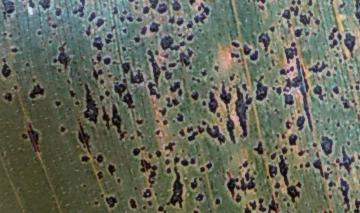tarspot: (292, 57, 313, 132), (233, 84, 248, 138), (83, 84, 98, 125), (171, 165, 183, 208), (147, 48, 160, 85), (339, 145, 355, 174), (27, 120, 40, 153), (78, 121, 91, 153), (339, 177, 350, 213), (206, 125, 226, 144), (279, 154, 289, 187), (58, 42, 70, 69), (225, 171, 236, 199), (160, 35, 180, 50), (111, 104, 121, 133), (219, 80, 231, 104), (344, 34, 356, 57), (287, 184, 300, 203), (147, 82, 162, 98), (283, 47, 297, 64), (256, 82, 268, 101), (101, 105, 110, 130), (226, 118, 235, 143), (28, 84, 44, 98), (307, 62, 329, 72), (123, 91, 135, 109), (321, 136, 333, 154), (130, 69, 144, 84), (208, 92, 218, 113), (240, 176, 255, 190), (259, 33, 270, 51), (114, 83, 127, 98), (74, 1, 85, 18), (313, 159, 323, 177), (268, 195, 278, 213), (177, 52, 190, 65), (3, 1, 15, 14), (139, 159, 151, 172), (105, 196, 118, 208), (268, 163, 278, 178), (193, 13, 206, 24), (284, 94, 294, 108), (299, 14, 310, 26), (148, 172, 156, 188), (283, 78, 292, 92), (3, 63, 11, 78), (187, 132, 199, 142), (297, 116, 305, 131), (254, 141, 263, 154), (200, 2, 209, 15), (259, 198, 267, 212), (158, 3, 168, 14), (149, 22, 160, 32), (169, 82, 180, 92), (39, 1, 51, 10), (107, 164, 116, 176), (355, 1, 360, 22), (245, 92, 253, 105), (95, 153, 105, 163), (328, 28, 337, 39), (95, 18, 104, 28), (93, 42, 103, 51), (172, 1, 181, 11), (282, 9, 291, 19), (225, 104, 231, 119), (290, 6, 299, 16), (313, 85, 322, 95), (244, 44, 252, 55), (250, 50, 258, 61), (289, 134, 297, 145), (354, 199, 360, 213), (158, 108, 167, 117), (165, 142, 174, 151), (142, 189, 151, 198), (122, 62, 130, 72), (140, 25, 148, 35), (149, 1, 159, 9), (129, 198, 137, 208), (92, 67, 98, 80), (165, 96, 172, 107), (4, 93, 13, 101), (88, 12, 96, 21), (191, 91, 199, 100), (176, 113, 184, 122), (191, 178, 197, 190), (165, 70, 172, 80), (249, 200, 256, 210), (103, 57, 111, 65), (176, 17, 184, 25), (330, 40, 338, 48), (195, 193, 203, 201), (120, 131, 127, 140), (191, 76, 200, 83), (169, 15, 175, 25), (28, 1, 35, 9), (112, 7, 119, 15), (143, 6, 150, 14), (161, 52, 169, 59), (200, 69, 208, 76), (136, 128, 142, 137), (81, 156, 90, 162), (132, 149, 141, 155), (276, 86, 282, 95), (286, 19, 292, 28), (87, 24, 91, 37), (187, 48, 194, 55), (197, 125, 204, 132), (280, 68, 287, 75), (296, 30, 303, 37), (342, 102, 349, 109), (2, 12, 8, 20), (60, 125, 66, 133), (155, 150, 161, 158), (179, 129, 185, 137), (181, 160, 189, 166), (232, 41, 240, 47), (258, 4, 266, 10), (286, 121, 292, 129), (333, 86, 339, 94), (270, 152, 276, 160), (245, 205, 251, 213), (97, 171, 103, 179), (231, 53, 240, 58), (236, 194, 241, 203), (324, 171, 329, 180), (55, 101, 62, 107), (70, 90, 76, 97), (127, 16, 134, 22), (135, 16, 142, 22), (155, 129, 161, 136), (187, 34, 194, 40), (173, 98, 179, 105), (187, 126, 193, 133), (258, 75, 264, 82), (241, 83, 247, 90), (298, 150, 305, 156), (242, 160, 248, 167), (296, 182, 302, 189), (173, 157, 179, 164), (329, 181, 336, 187), (52, 58, 58, 64), (187, 21, 193, 27), (162, 119, 168, 125), (168, 63, 177, 67), (201, 120, 207, 126), (230, 74, 236, 80), (270, 26, 276, 32), (314, 19, 320, 25), (282, 148, 288, 154), (206, 163, 212, 169), (245, 172, 249, 181), (56, 9, 61, 16), (22, 133, 27, 140), (91, 58, 96, 65), (189, 1, 196, 6), (154, 49, 159, 56), (160, 66, 167, 71), (190, 158, 195, 165), (308, 10, 313, 17), (274, 190, 279, 197), (111, 24, 115, 32), (343, 52, 347, 60), (12, 48, 18, 53), (99, 95, 104, 101), (105, 90, 110, 96), (95, 37, 101, 42), (107, 33, 113, 38), (120, 16, 125, 22), (134, 5, 139, 11), (122, 77, 127, 83), (148, 153, 153, 159), (213, 85, 218, 91), (290, 66, 295, 72), (307, 1, 313, 6), (340, 2, 345, 8), (200, 166, 205, 172), (275, 182, 280, 188), (215, 199, 220, 205), (166, 168, 171, 174), (152, 165, 157, 171), (158, 206, 164, 211), (136, 120, 143, 124), (178, 89, 182, 96), (337, 33, 341, 40), (37, 30, 42, 35), (48, 39, 53, 44), (52, 24, 57, 29), (57, 68, 62, 73), (75, 101, 80, 106), (123, 10, 128, 15), (99, 80, 104, 85), (122, 46, 127, 51), (130, 135, 135, 140), (149, 40, 154, 45), (180, 41, 185, 46), (237, 59, 242, 64), (280, 36, 285, 41), (165, 159, 170, 164), (312, 143, 317, 148), (293, 165, 298, 170), (67, 79, 71, 85), (97, 56, 101, 62), (105, 39, 111, 43), (123, 27, 127, 33), (134, 38, 140, 42), (140, 146, 146, 150), (202, 100, 206, 106), (276, 12, 282, 16), (305, 31, 309, 37), (319, 95, 323, 101), (336, 122, 340, 128), (306, 162, 310, 168), (349, 65, 353, 71), (341, 96, 345, 102), (274, 107, 278, 113), (148, 200, 152, 206), (193, 209, 199, 213), (347, 140, 351, 146), (357, 114, 360, 122), (215, 65, 218, 72), (272, 60, 275, 67), (316, 151, 319, 158), (14, 85, 18, 90), (32, 78, 36, 83), (98, 69, 102, 74), (103, 2, 107, 7), (162, 62, 167, 66), (198, 6, 202, 11), (216, 113, 221, 117), (210, 76, 214, 81), (270, 49, 274, 54), (286, 68, 290, 73), (282, 134, 286, 139), (236, 185, 240, 190), (336, 158, 340, 163), (327, 167, 331, 172), (329, 209, 334, 213), (100, 194, 105, 198), (165, 153, 170, 157), (1, 59, 7, 62), (112, 61, 118, 64), (339, 58, 342, 64), (329, 194, 332, 200), (333, 103, 336, 109), (9, 34, 13, 38), (188, 66, 192, 70), (265, 53, 269, 57), (275, 79, 279, 83), (291, 42, 295, 46), (291, 1, 295, 5), (297, 1, 301, 5), (312, 32, 316, 36), (166, 202, 170, 206), (235, 178, 239, 182), (286, 203, 290, 207), (95, 201, 99, 205), (83, 184, 87, 188), (108, 75, 113, 78), (260, 1, 265, 4), (229, 87, 232, 92), (268, 66, 271, 71), (272, 86, 275, 91), (327, 72, 330, 77), (350, 85, 353, 90), (356, 85, 359, 90), (334, 66, 337, 71), (277, 133, 280, 138), (199, 177, 202, 182), (118, 178, 121, 183), (351, 100, 356, 103), (127, 1, 134, 3), (7, 14, 11, 17), (3, 33, 7, 36), (26, 62, 29, 66), (156, 120, 160, 123), (182, 35, 186, 38), (278, 20, 282, 23), (335, 54, 339, 57), (300, 164, 303, 168), (143, 205, 146, 209), (283, 198, 286, 202), (323, 210, 327, 213), (358, 155, 360, 161), (356, 165, 359, 169), (136, 185, 138, 191), (135, 1, 138, 4), (275, 146, 278, 149), (252, 1, 256, 3), (247, 1, 251, 3), (257, 1, 260, 3), (164, 211, 166, 213)
